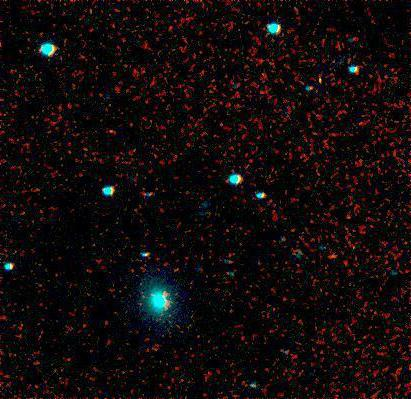star: (329, 247, 359, 277)
